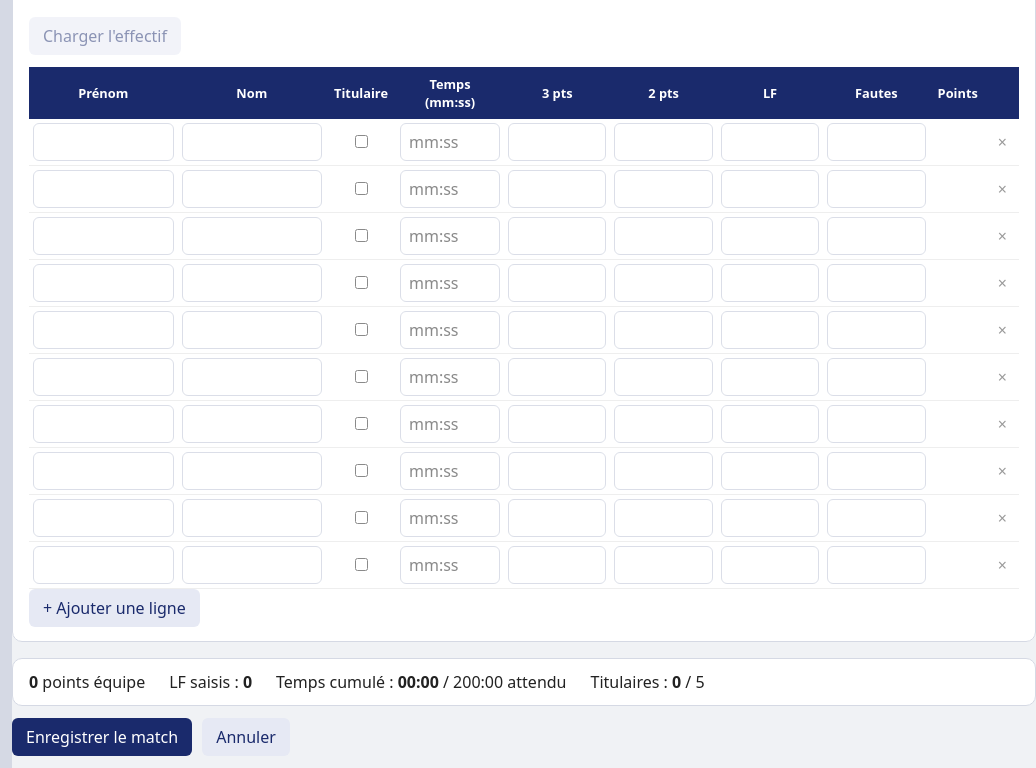
it: écran de saisie › n'enregistre rien et affiche les erreurs si le formulaire est incomplet
This screenshot has width=1036, height=768.
(page scrolled)
Step 1. Click the button "Enregistrer le match" → (102, 737), box top-left (12, 718), bottom-right (192, 756)
(page scrolled)
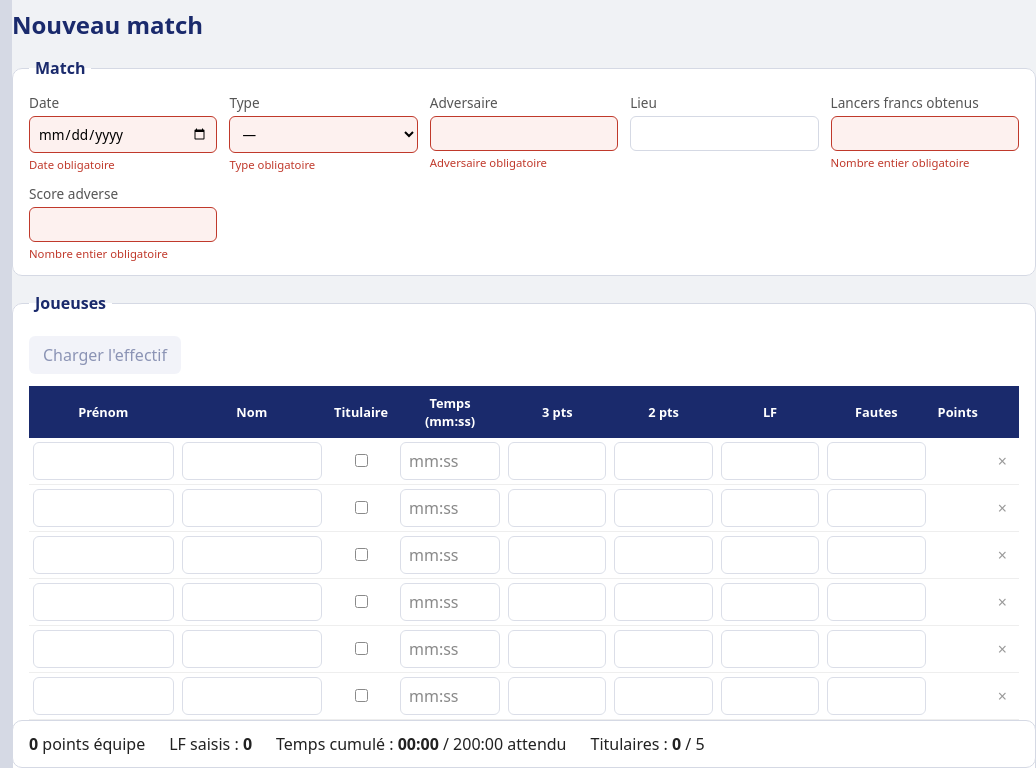
Check: the text "Date obligatoire" is shown, box top-left (29, 157), bottom-right (115, 172)
